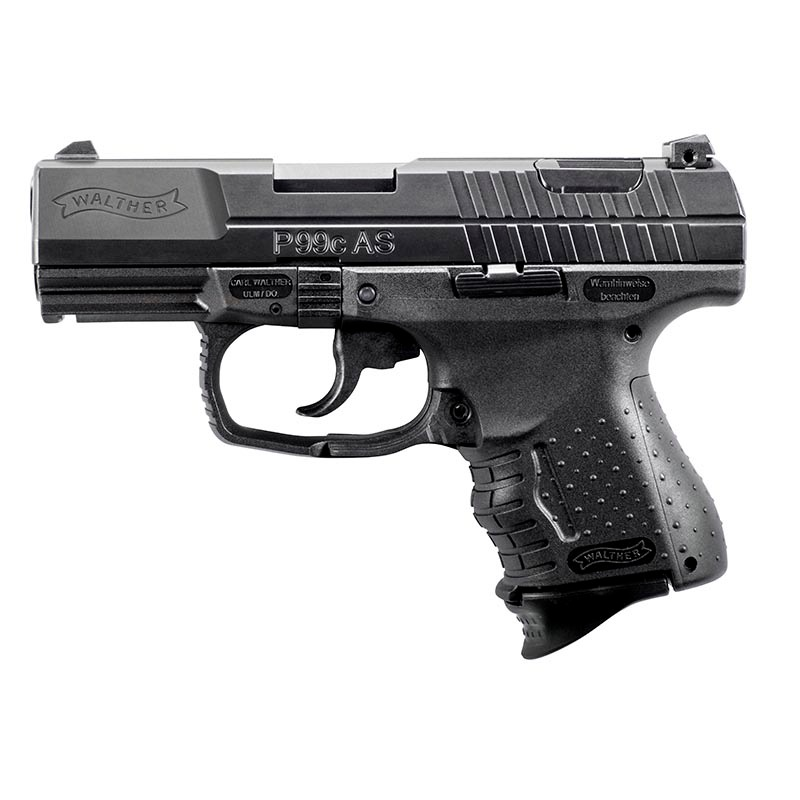gun: (18, 137, 751, 661)
